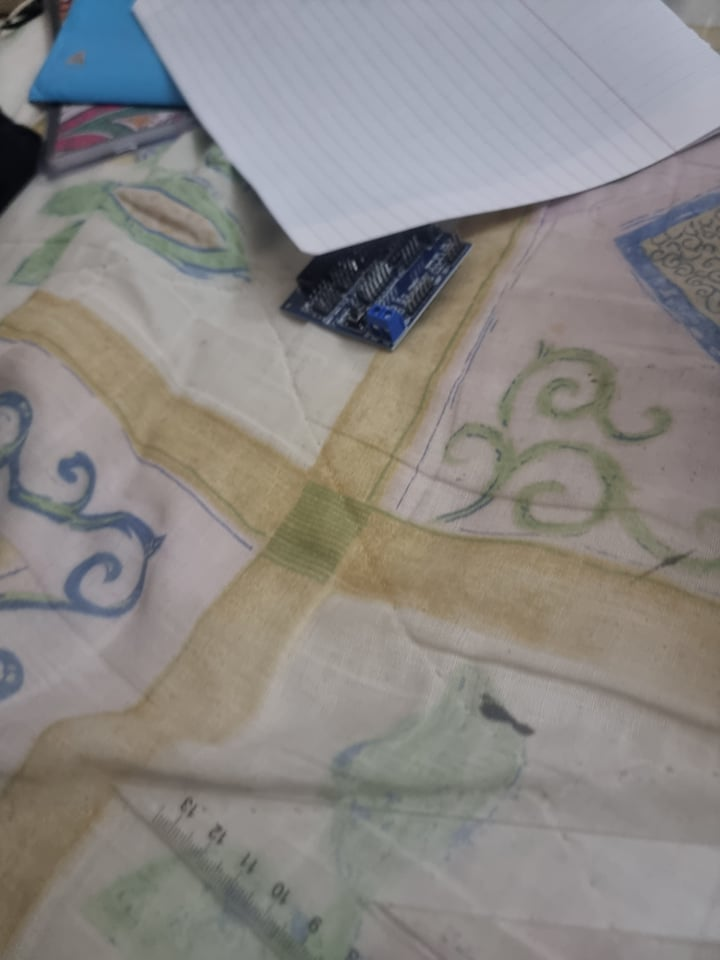5V EXPANSION: (278, 213, 472, 351)
